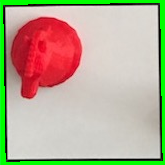Red Knight: (8, 13, 86, 102)
